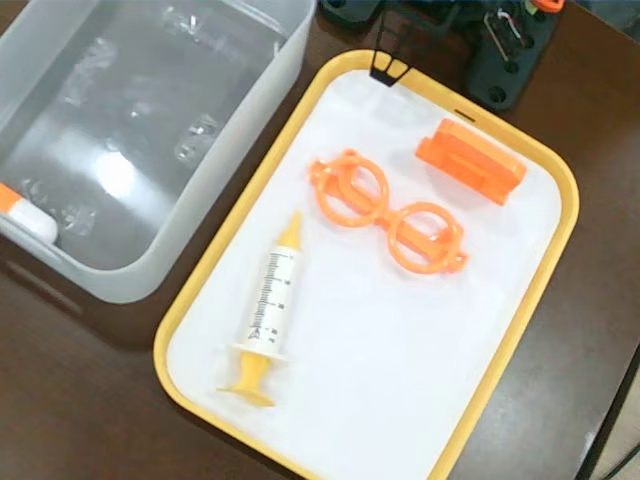pill: (2, 180, 60, 247)
syringe: (215, 206, 303, 408)
